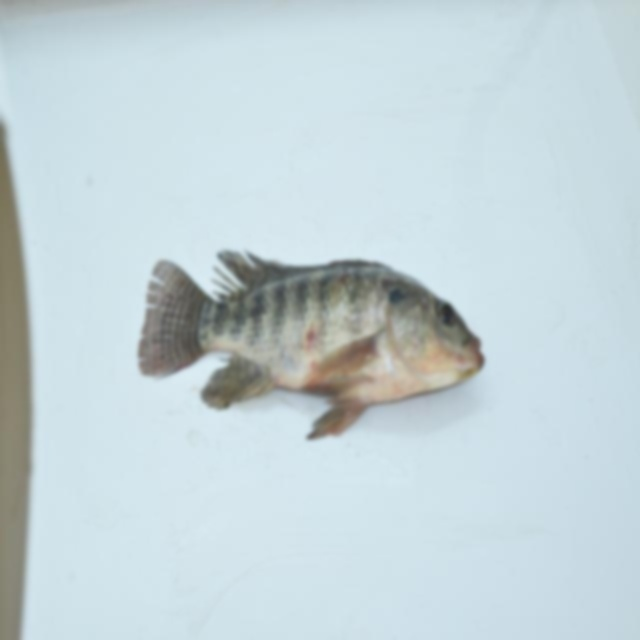Columnaris Disease: (127, 244, 498, 448)
